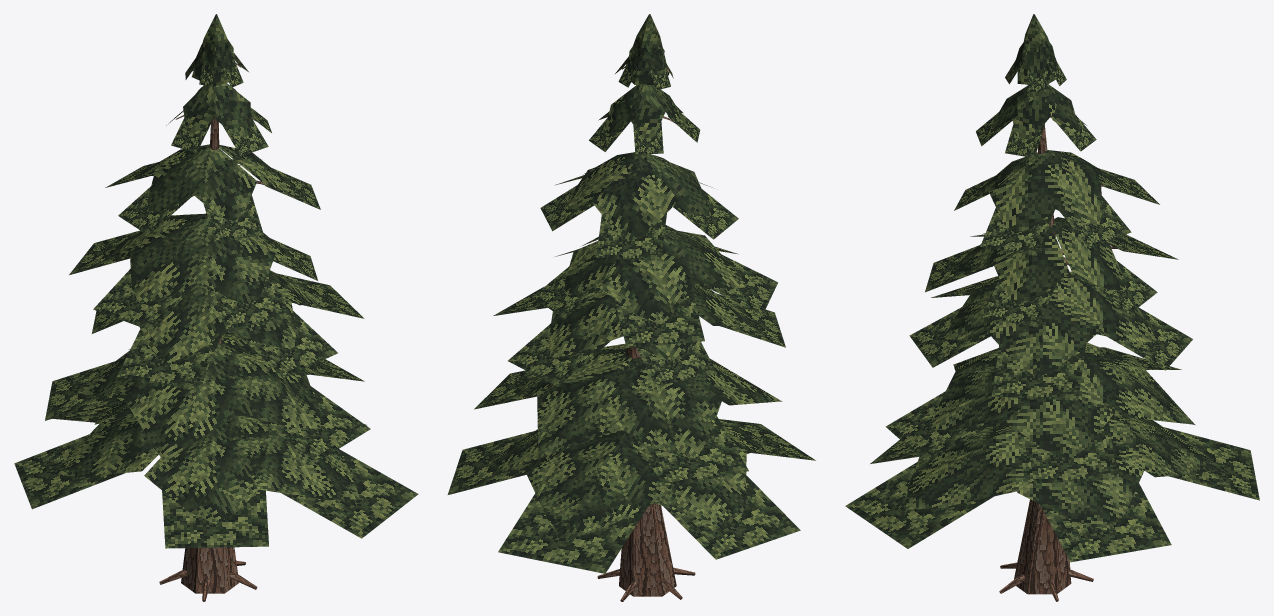
Rendered from TREE_Pine_C_LOD1.glb.
The picture shows the model from 3 angles, left to right: view 1: azimuth 30°, elevation 25°; view 2: azimuth 150°, elevation 25°; view 3: azimuth 270°, elevation 25°; orthographic projection.
Parts seen in each view (by area): view 1: TREE_Pine_C_LOD1__Foliage, TREE_Pine_C_LOD1__Card, TREE_Pine_C_LOD1__Bark; view 2: TREE_Pine_C_LOD1__Foliage, TREE_Pine_C_LOD1__Card, TREE_Pine_C_LOD1__Bark; view 3: TREE_Pine_C_LOD1__Foliage, TREE_Pine_C_LOD1__Card, TREE_Pine_C_LOD1__Bark.
Part boxes in pixels (x1,y1,x2,y2): TREE_Pine_C_LOD1__Foliage: (55, 14, 359, 524); TREE_Pine_C_LOD1__Card: (14, 53, 418, 548); TREE_Pine_C_LOD1__Bark: (152, 62, 264, 601); TREE_Pine_C_LOD1__Foliage: (486, 14, 780, 539); TREE_Pine_C_LOD1__Card: (447, 56, 815, 573); TREE_Pine_C_LOD1__Bark: (538, 66, 782, 601); TREE_Pine_C_LOD1__Foliage: (905, 14, 1220, 530); TREE_Pine_C_LOD1__Card: (845, 60, 1259, 562); TREE_Pine_C_LOD1__Bark: (953, 68, 1195, 601).
Bounding box in the file's own units: 6.63 × 10.71 × 7.06.
Materials: 3 (3 with a texture image).
